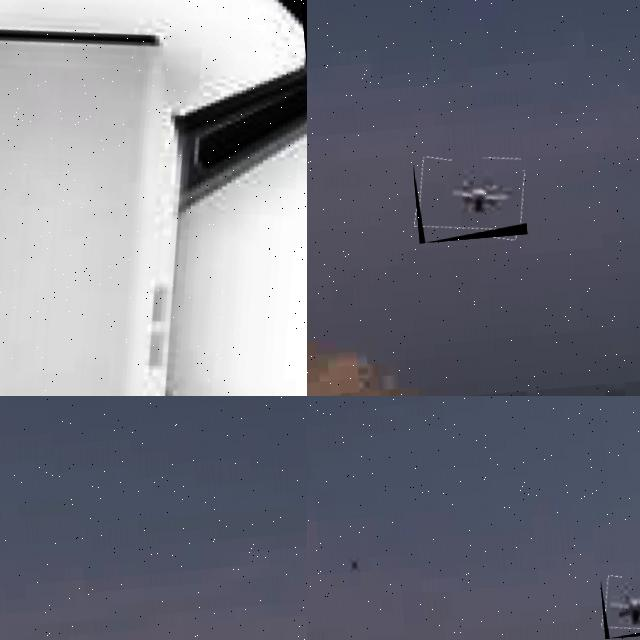0: (412, 154, 527, 243), (600, 573, 640, 639)
drone: (0, 0, 307, 396)
